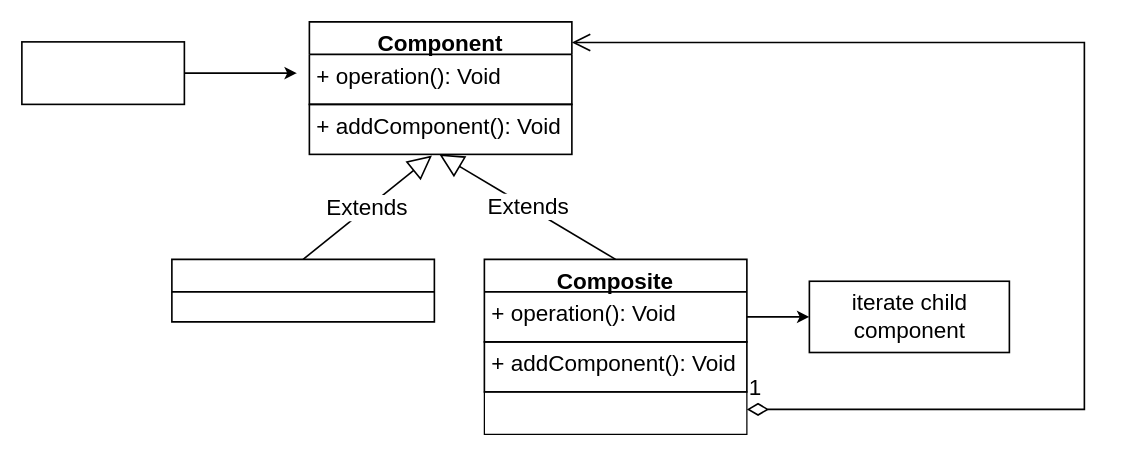
Image size: 1129x460. Some labels were removed from this diagram. Here are the shapes that lost their labels. From the top down, the centre of each, then its label:
At (x=102, y=72): "Client".
At (x=302, y=290): "Leaf".
At (x=615, y=412): "+ Component: childs".
